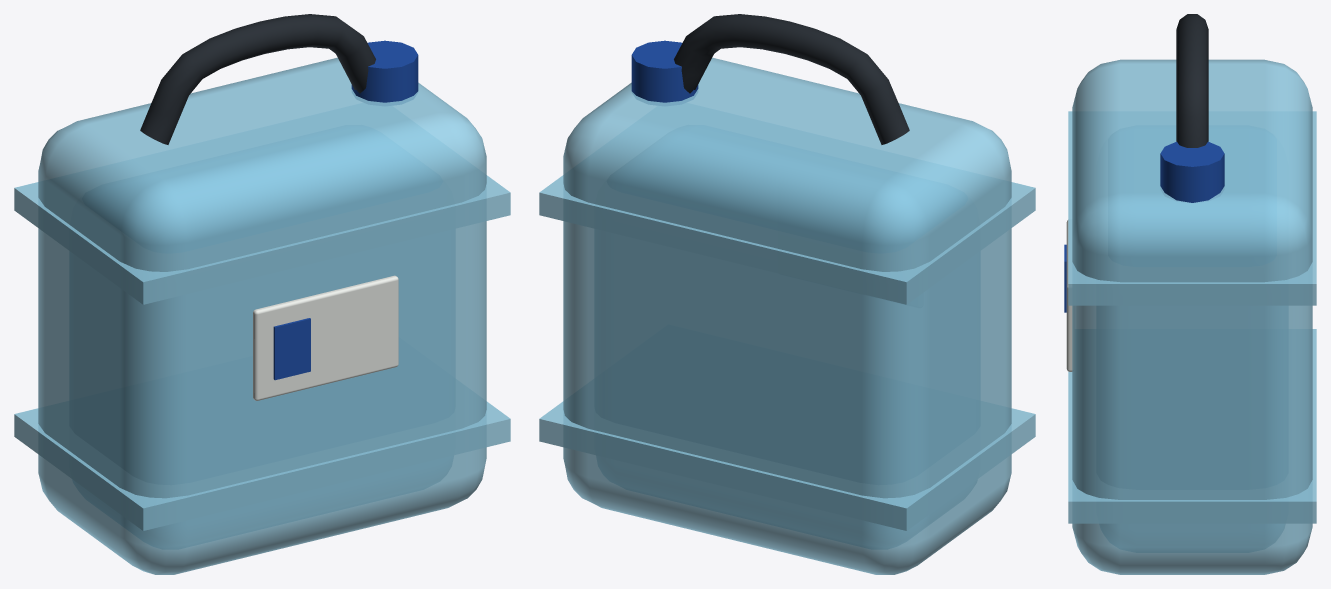
Rendered from water-container.glb.
3 renders of one model, left to right at view 1: azimuth 30°, elevation 25°; view 2: azimuth 150°, elevation 25°; view 3: azimuth 270°, elevation 25°, orthographic. The views are drawn at different scales.
Parts seen in each view (by area): view 1: water-container-bladder, water-container-hull-white, handle-dark-polymer, cap-nasa-blue, water-container-nasa-blue; view 2: water-container-bladder, handle-dark-polymer, cap-nasa-blue; view 3: water-container-bladder, handle-dark-polymer, cap-nasa-blue, water-container-hull-white.
Part boxes in pixels (<box>): water-container-bladder: <box>14,57,510,574</box>; water-container-hull-white: <box>253,275,398,400</box>; handle-dark-polymer: <box>140,14,375,144</box>; cap-nasa-blue: <box>351,40,418,102</box>; water-container-nasa-blue: <box>273,318,310,380</box>; water-container-bladder: <box>539,57,1035,574</box>; handle-dark-polymer: <box>674,14,909,144</box>; cap-nasa-blue: <box>631,40,698,102</box>; water-container-bladder: <box>1068,59,1316,574</box>; handle-dark-polymer: <box>1176,14,1208,147</box>; cap-nasa-blue: <box>1160,141,1224,202</box>; water-container-hull-white: <box>1066,219,1072,371</box>.
Bounding box in the file's own units: 0.51 × 0.6463 × 0.315.
